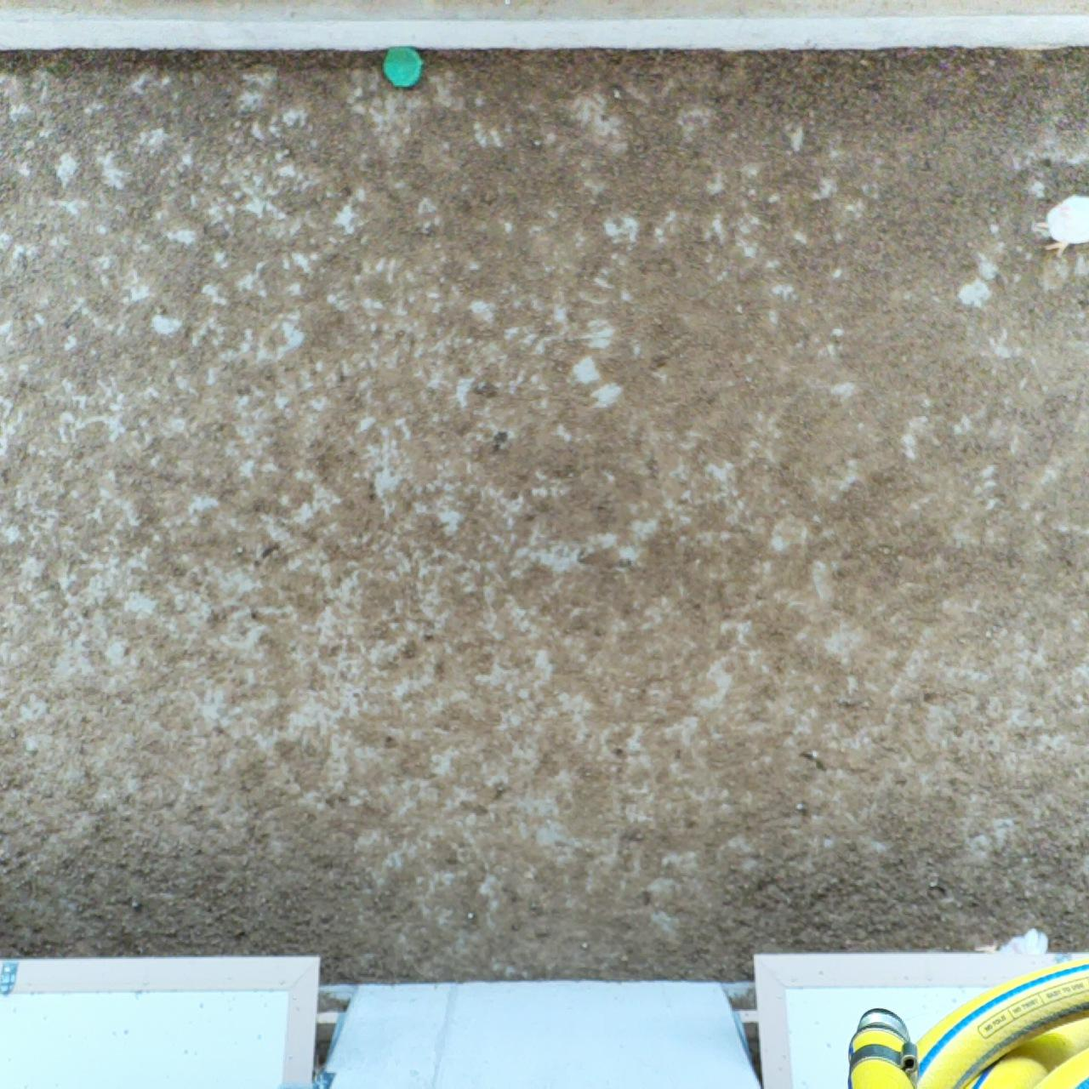chicken: (968, 927, 1054, 1004), (1032, 192, 1089, 260)
